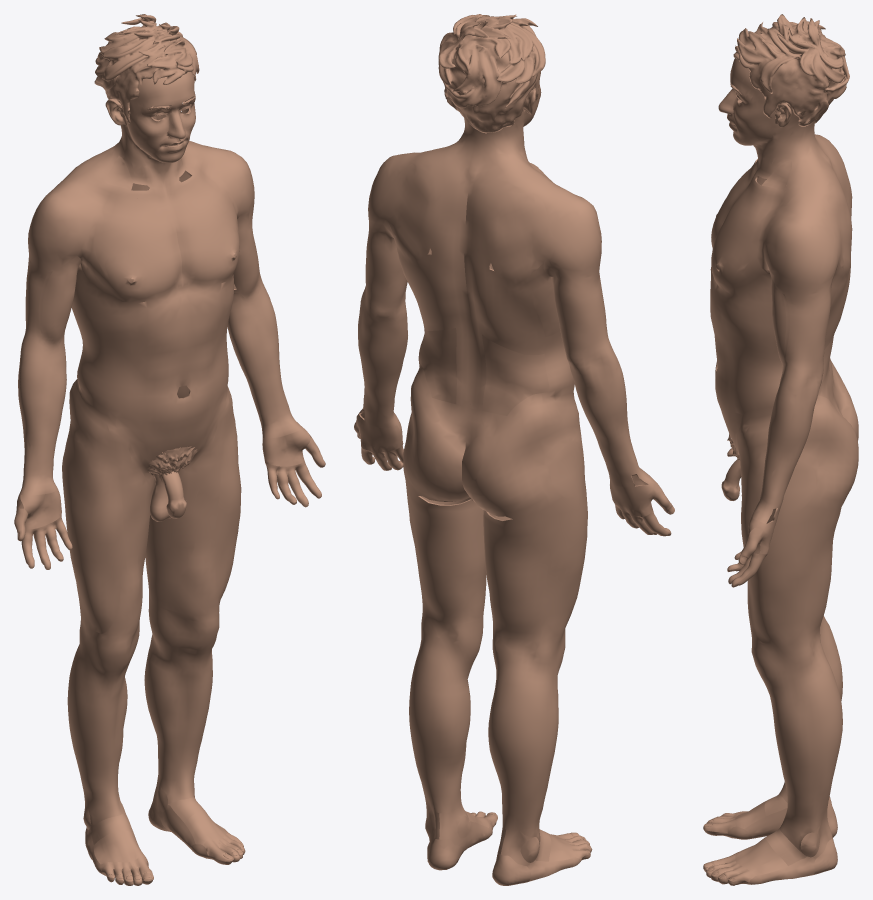
The model's file is integumentary-system.glb.
The picture shows the model from 3 angles, left to right: view 1: azimuth 30°, elevation 25°; view 2: azimuth 150°, elevation 25°; view 3: azimuth 270°, elevation 25°; orthographic projection. The views are drawn at different scales.
Visible parts, largest first — view 1: real-skin-anterior-region-of-thigh-r, real-skin-anterior-region-of-thigh-l, real-skin-hairs-of-head, real-skin-anterior-region-of-leg-l, real-skin-anterior-region-of-leg-r, real-skin-pectoral-region-r, real-skin-deltoid-region-r, real-skin-anterior-region-of-forearm-l, real-skin-anterior-region-of-forearm-r, real-skin-lateral-region-of-thorax-r, real-skin-lateral-region-of-abdomen-r, real-skin-pectoral-region-l (+46 smaller); view 2: real-skin-posterior-region-of-thigh-r, real-skin-hairs-of-head, real-skin-gluteal-region-r, real-skin-posterior-region-of-thigh-l, real-skin-posterior-region-of-leg-r, real-skin-posterior-region-of-leg-l, real-skin-gluteal-region-l, real-skin-scapular-region-r, real-skin-posterior-region-of-arm-r, real-skin-infrascapular-region-r, real-skin-scapular-region-l, real-skin-posterior-region-of-forearm-r (+32 smaller); view 3: real-skin-hairs-of-head, real-skin-anterior-region-of-thigh-l, real-skin-posterior-region-of-thigh-l, real-skin-deltoid-region-l, real-skin-gluteal-region-l, real-skin-posterior-region-of-leg-l, real-skin-lateral-region-of-thorax-l, real-skin-anterior-region-of-leg-l, real-skin-lateral-region-of-abdomen-l, real-skin-pectoral-region-l, real-skin-posterior-region-of-arm-l, real-skin-posterior-region-of-neck-l (+45 smaller).
Part boxes in pixels (box(x1,y1,x2,y2)): real-skin-anterior-region-of-thigh-r: box(69, 382, 154, 636); real-skin-anterior-region-of-thigh-l: box(150, 383, 241, 615); real-skin-hairs-of-head: box(94, 14, 199, 123); real-skin-anterior-region-of-leg-l: box(153, 654, 212, 780); real-skin-anterior-region-of-leg-r: box(74, 674, 127, 799); real-skin-pectoral-region-r: box(94, 205, 174, 302); real-skin-deltoid-region-r: box(28, 174, 90, 271); real-skin-anterior-region-of-forearm-l: box(228, 304, 292, 425); real-skin-anterior-region-of-forearm-r: box(22, 360, 66, 481); real-skin-lateral-region-of-thorax-r: box(71, 225, 147, 333); real-skin-lateral-region-of-abdomen-r: box(77, 342, 147, 422); real-skin-pectoral-region-l: box(183, 179, 238, 284); real-skin-posterior-region-of-thigh-r: box(483, 496, 579, 640); real-skin-hairs-of-head: box(438, 14, 545, 133); real-skin-gluteal-region-r: box(462, 392, 567, 518); real-skin-posterior-region-of-thigh-l: box(404, 472, 485, 624); real-skin-posterior-region-of-leg-r: box(488, 688, 555, 830); real-skin-posterior-region-of-leg-l: box(409, 667, 468, 813); real-skin-gluteal-region-l: box(403, 360, 470, 501); real-skin-scapular-region-r: box(486, 191, 559, 287); real-skin-posterior-region-of-arm-r: box(543, 242, 606, 348); real-skin-infrascapular-region-r: box(475, 273, 545, 354); real-skin-scapular-region-l: box(379, 164, 436, 266); real-skin-posterior-region-of-forearm-r: box(570, 368, 640, 475); real-skin-hairs-of-head: box(733, 14, 849, 126); real-skin-anterior-region-of-thigh-l: box(738, 407, 787, 646); real-skin-posterior-region-of-thigh-l: box(783, 506, 841, 645); real-skin-deltoid-region-l: box(763, 197, 834, 297); real-skin-gluteal-region-l: box(798, 395, 858, 509); real-skin-posterior-region-of-leg-l: box(798, 679, 842, 822); real-skin-lateral-region-of-thorax-l: box(715, 229, 846, 343); real-skin-anterior-region-of-leg-l: box(770, 696, 806, 822); real-skin-lateral-region-of-abdomen-l: box(723, 347, 782, 414); real-skin-pectoral-region-l: box(711, 197, 769, 291); real-skin-posterior-region-of-arm-l: box(799, 248, 839, 364); real-skin-posterior-region-of-neck-l: box(784, 120, 834, 199).
Size of the model in its own units: 0.6801 by 1.74 by 0.294.
